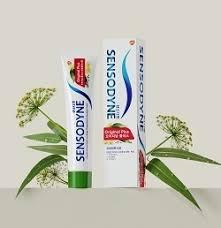toothpaste: (57, 52, 101, 186)
